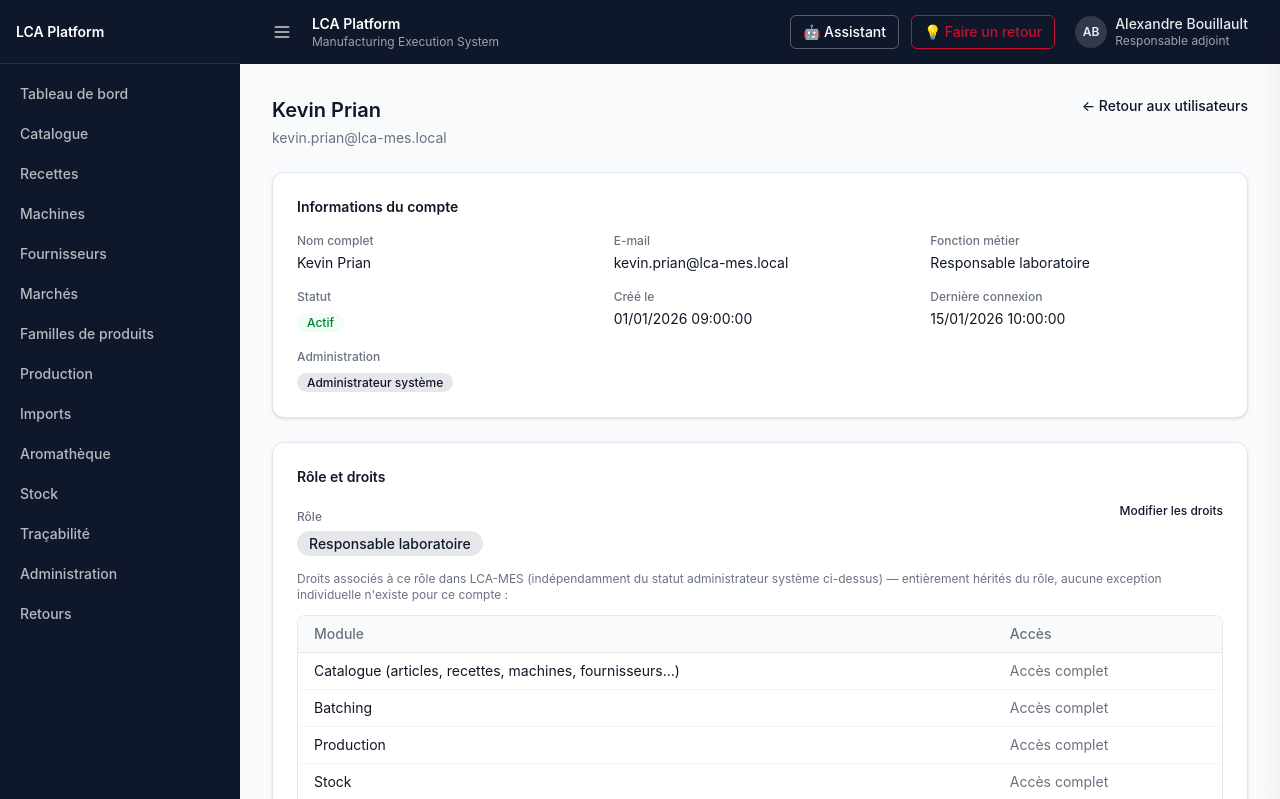
Scenario: UserDetailPage › modification des droits › désactive la case « Administrateur système » lors de la modification de son propre compte
This screenshot has width=1280, height=799.
Click the button "Modifier les droits". click: (1171, 511)
box: [1120,503,1223,519]
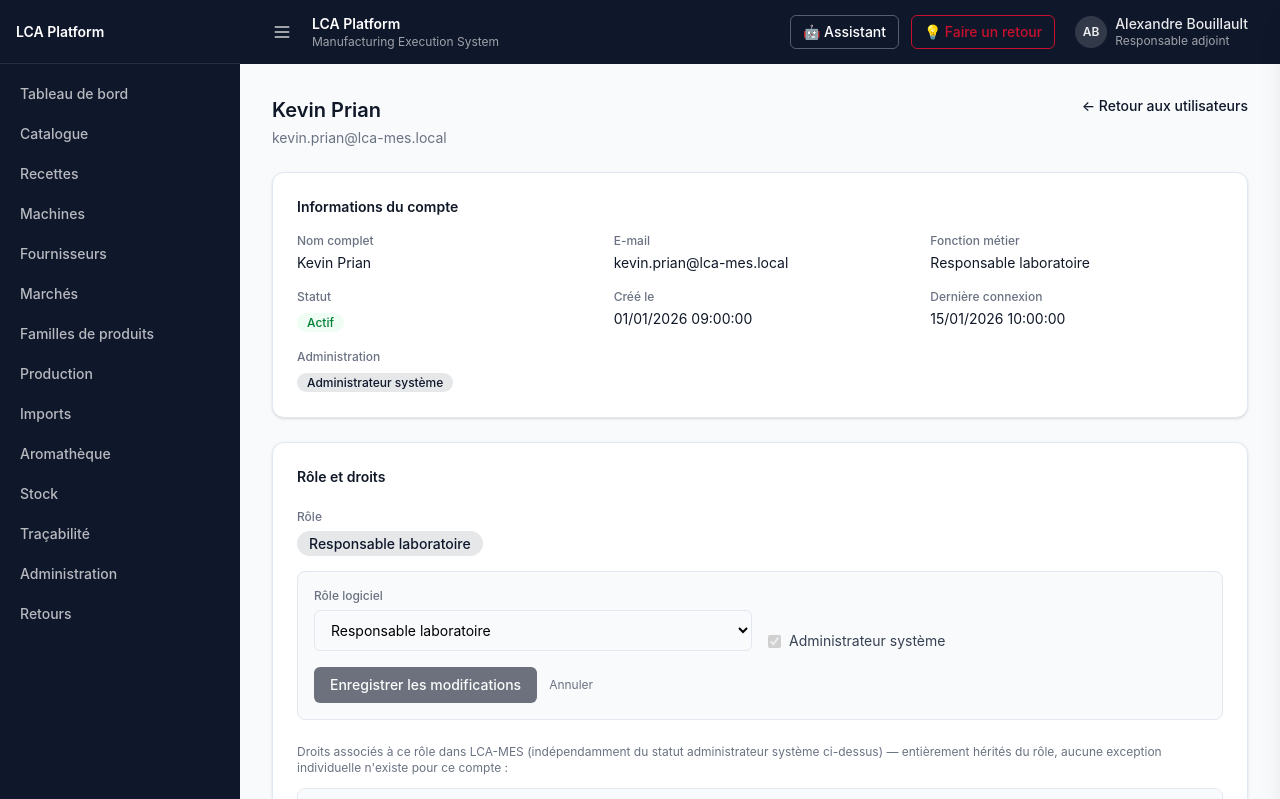
expect the checkbox labelled "Administrateur système" is disabled: met, box [768,634,781,648]
